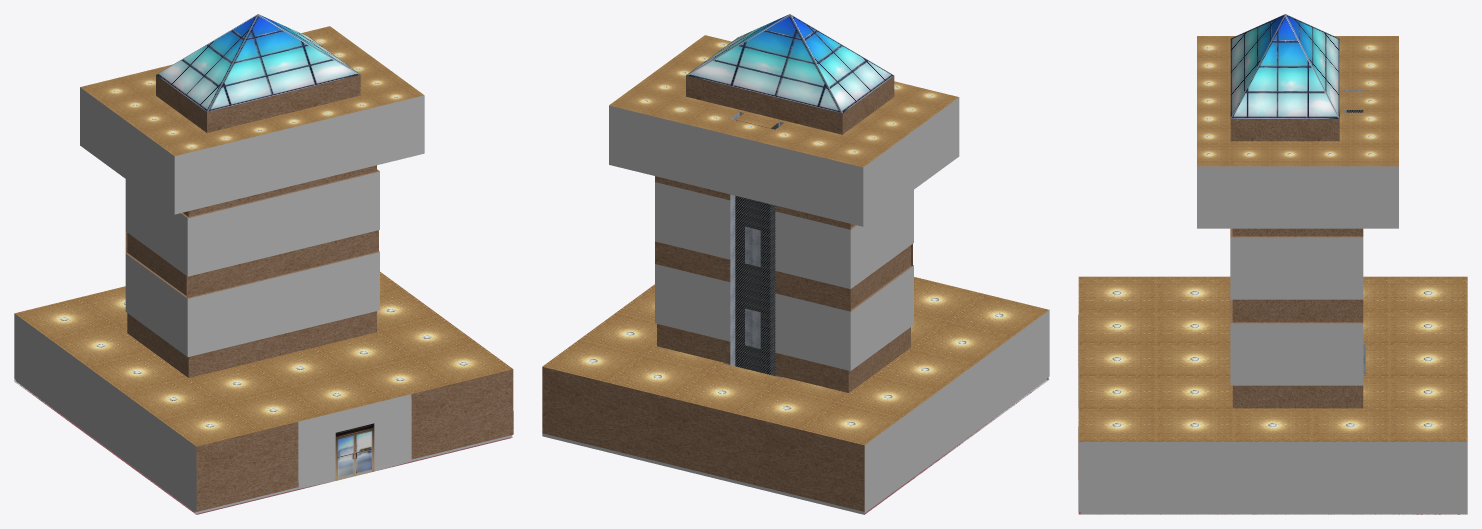
The model's file is ENVI_ElevatorFoyer.obj.
3 views of the same model, side by side, from view 1: azimuth 30°, elevation 25°; view 2: azimuth 150°, elevation 25°; view 3: azimuth 270°, elevation 25° (orthographic). The views are drawn at different scales.
Visible parts, largest first — view 1: ENVI_ElevatorFoyer.002; view 2: ENVI_ElevatorFoyer.002; view 3: ENVI_ElevatorFoyer.002.
Boxes of the visible parts, bbox=[...] form: ENVI_ElevatorFoyer.002: bbox=[14, 14, 513, 514]; ENVI_ElevatorFoyer.002: bbox=[542, 14, 1049, 514]; ENVI_ElevatorFoyer.002: bbox=[1078, 14, 1467, 514].
Bounding box in the file's own units: 21.92 × 27.33 × 21.81.
15 materials, 12 textured.
